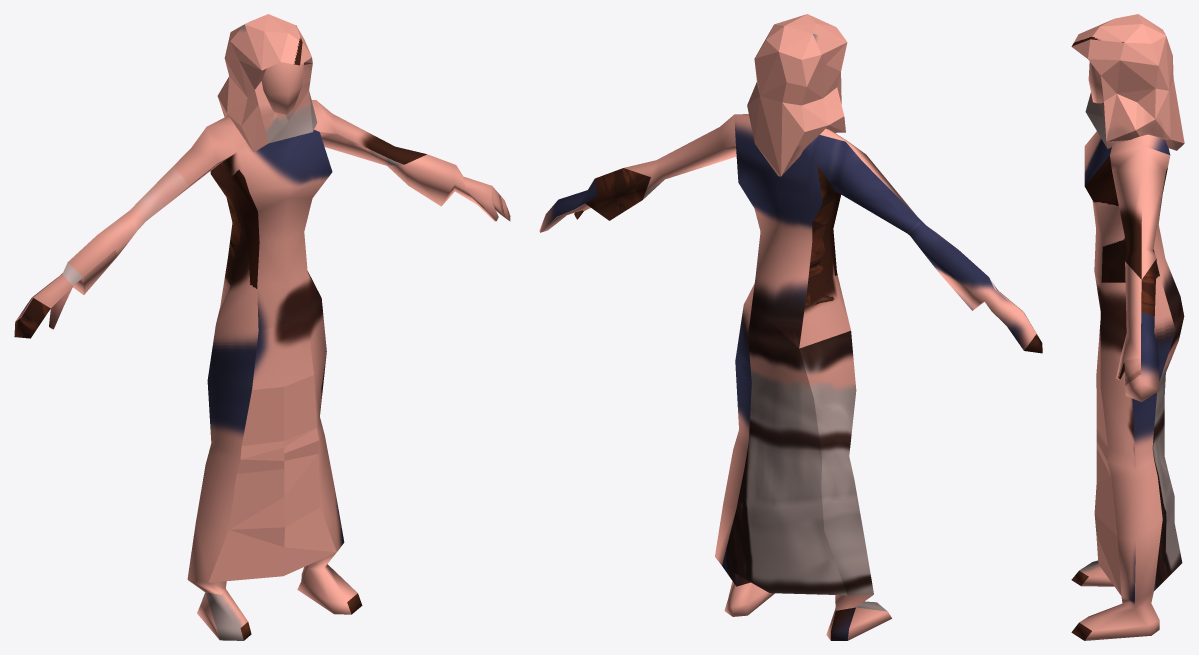
Rendered from Nun.fbx.
3 renders of one model, left to right at view 1: azimuth 30°, elevation 25°; view 2: azimuth 150°, elevation 25°; view 3: azimuth 270°, elevation 25°, orthographic.
Parts seen in each view (by area): view 1: Nun; view 2: Nun; view 3: Nun.
Part boxes in pixels (bbox=[...]): Nun: bbox=[14, 14, 510, 640]; Nun: bbox=[539, 14, 1042, 640]; Nun: bbox=[1071, 14, 1184, 640].
Bounding box in the file's own units: 161 × 182 × 31.94.
